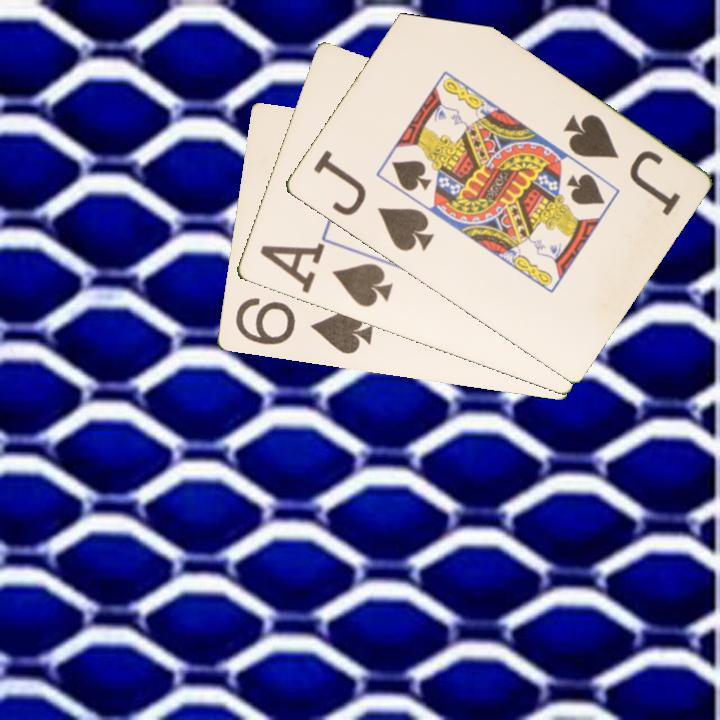6s: (231, 294, 376, 358)
As: (269, 249, 396, 311)
Js: (309, 146, 437, 255), (558, 110, 683, 219)
